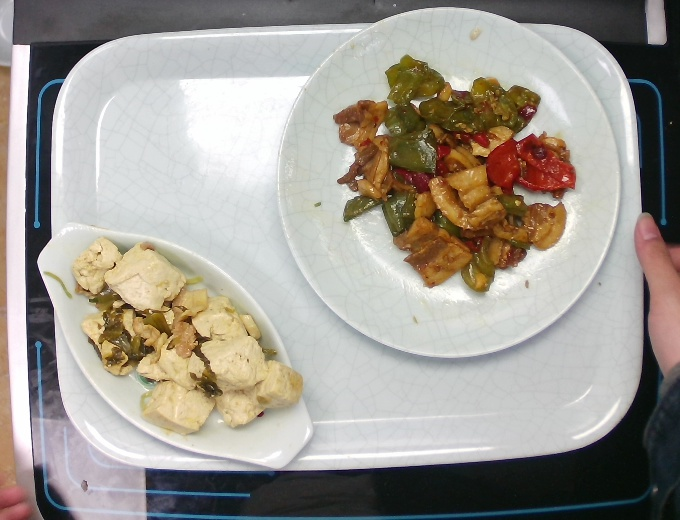JYsf-Da_Yuan_Pan: (271, 4, 625, 362)
JYsf-Yu_Pan: (34, 219, 317, 471)
